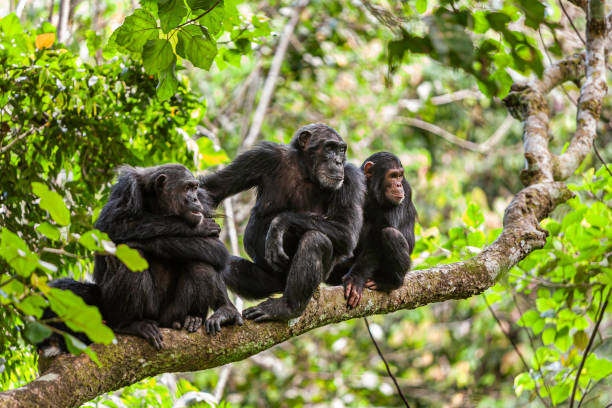chimpanzee: (283, 113, 357, 197), (141, 149, 210, 236), (362, 143, 416, 209)
